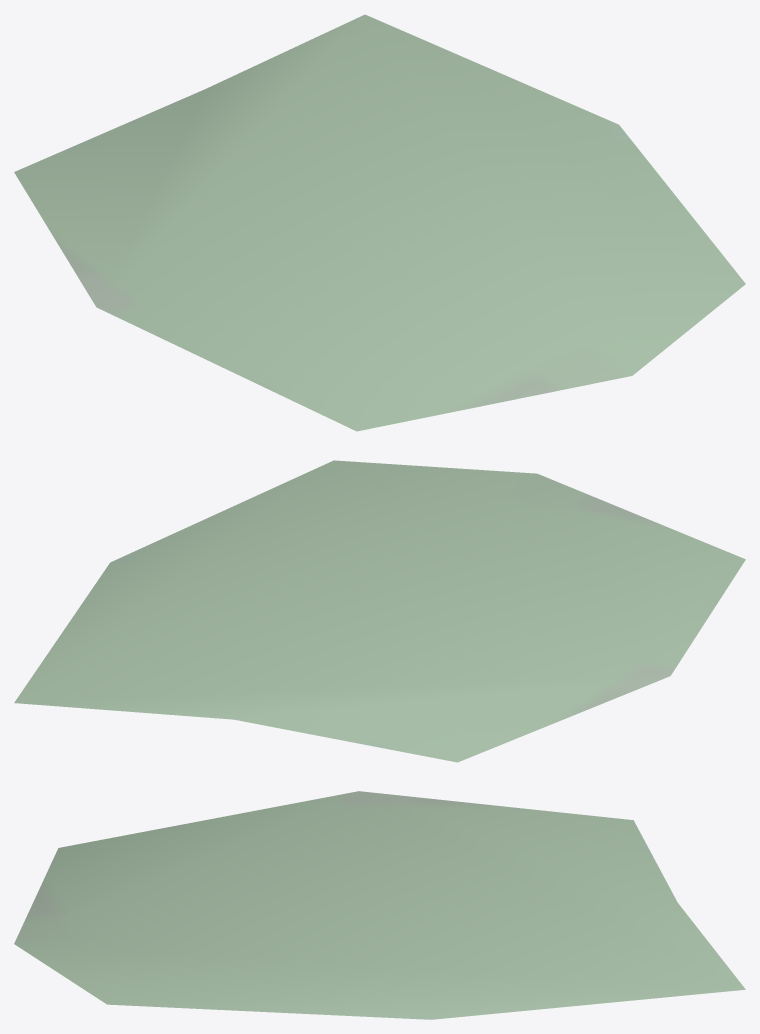
File: TROLLHOLE02_HOLECAP.fbx
3 views of the same model, one above another, from view 1: azimuth 30°, elevation 25°; view 2: azimuth 150°, elevation 25°; view 3: azimuth 270°, elevation 25° (orthographic). The views are drawn at different scales.
Visible parts, largest first — view 1: TROLLHOLE02_HOLECAP; view 2: TROLLHOLE02_HOLECAP; view 3: TROLLHOLE02_HOLECAP.
Boxes of the visible parts, x1,y1,x2,y2 form: TROLLHOLE02_HOLECAP: [14, 14, 745, 431]; TROLLHOLE02_HOLECAP: [14, 460, 745, 762]; TROLLHOLE02_HOLECAP: [14, 791, 745, 1019].
Size of the model in its own units: 22042 by 1346 by 28176.
Materials: 1 (1 with a texture image).
